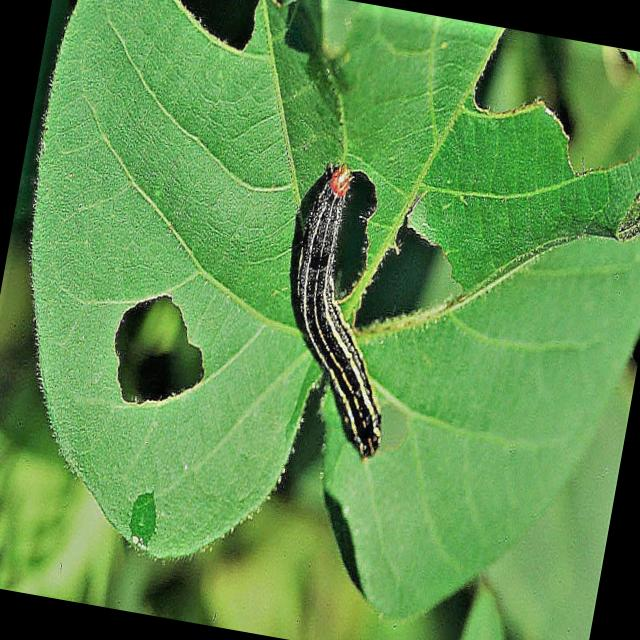Armyworm: (253, 122, 436, 477)
Armyworm_damage: (450, 23, 640, 208), (98, 261, 228, 438), (352, 201, 481, 361)
